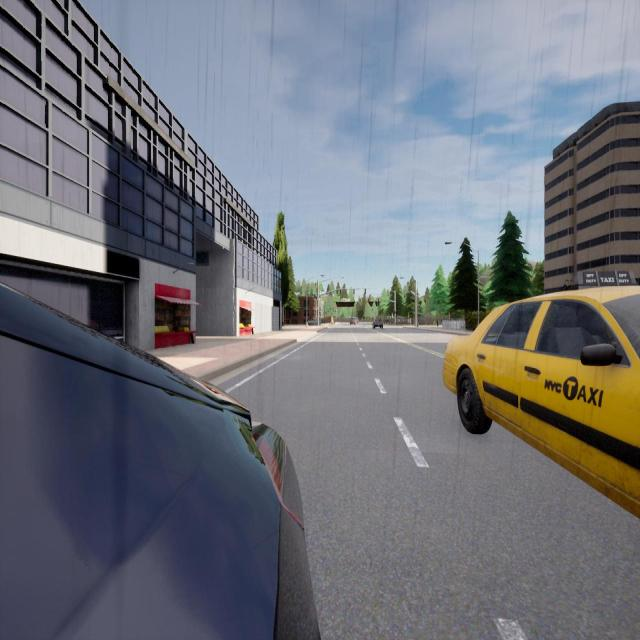Vehicle: (0, 283, 319, 640), (443, 286, 639, 518), (372, 317, 383, 329), (308, 320, 322, 326), (350, 318, 356, 326)
traffic_light: (394, 310, 396, 314), (365, 289, 366, 294), (340, 290, 341, 294), (404, 294, 405, 298), (378, 298, 379, 302), (368, 298, 369, 302), (411, 293, 412, 296), (360, 298, 360, 302), (354, 289, 354, 294)
